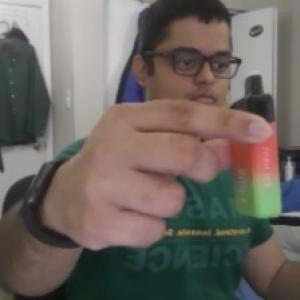Swift-E-Ciggirate: (222, 69, 293, 221)
